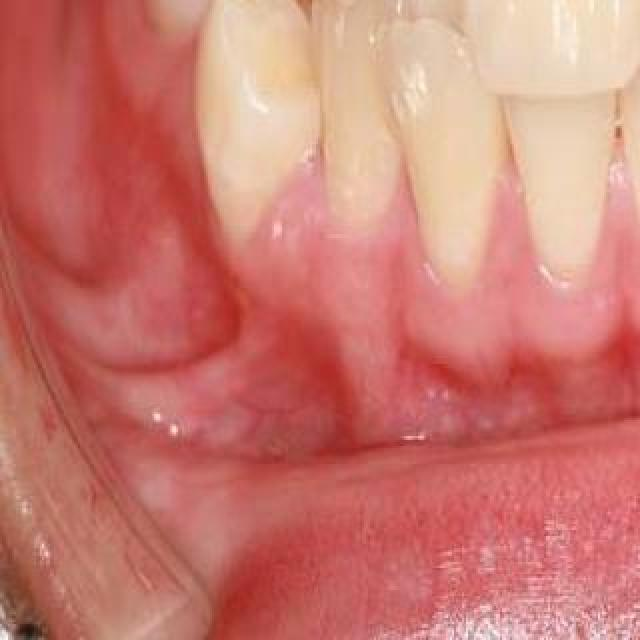maligned: (360, 12, 506, 270), (188, 0, 312, 246), (372, 0, 504, 68)
